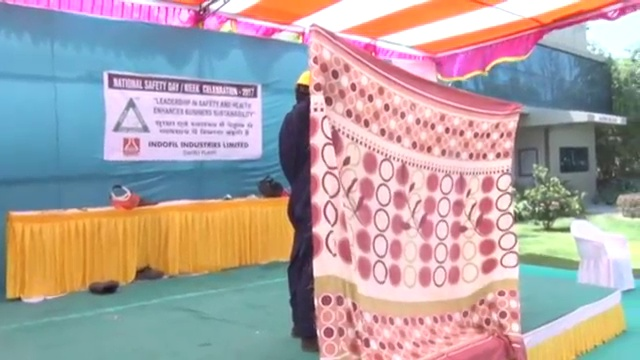person: (277, 68, 323, 354)
